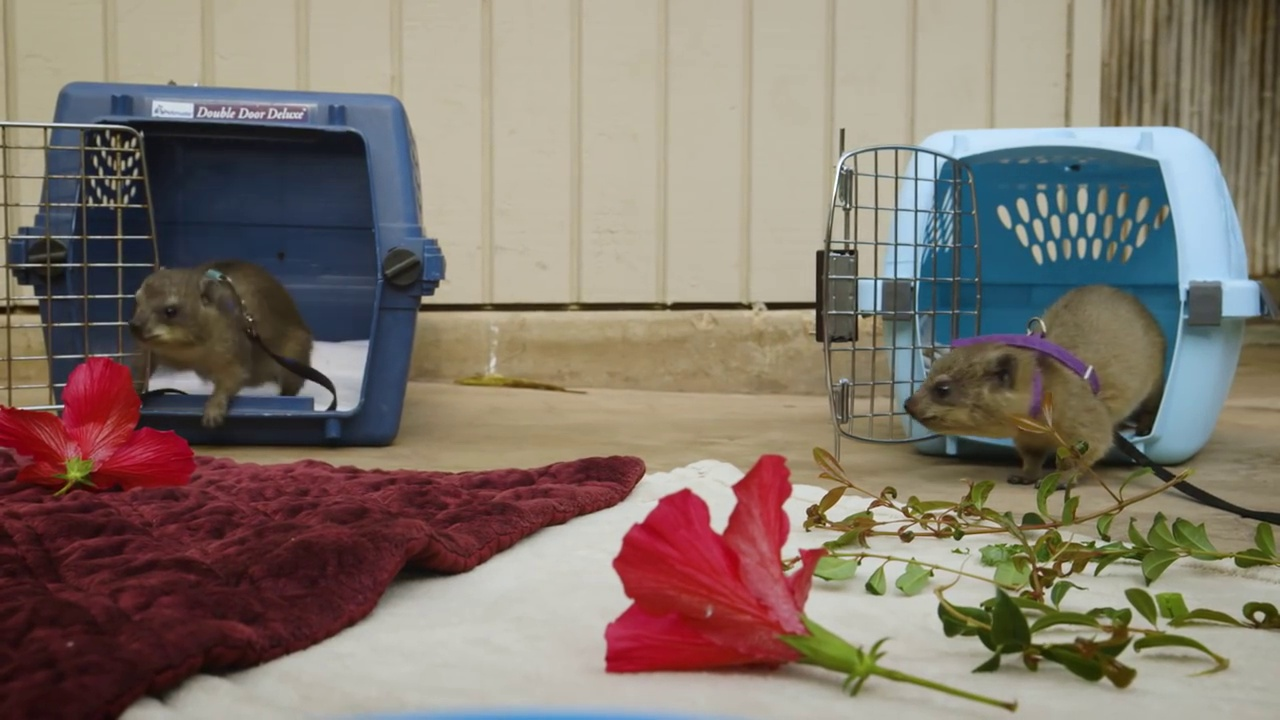Rock Hyrex: (904, 272, 1173, 478), (128, 254, 321, 438)
